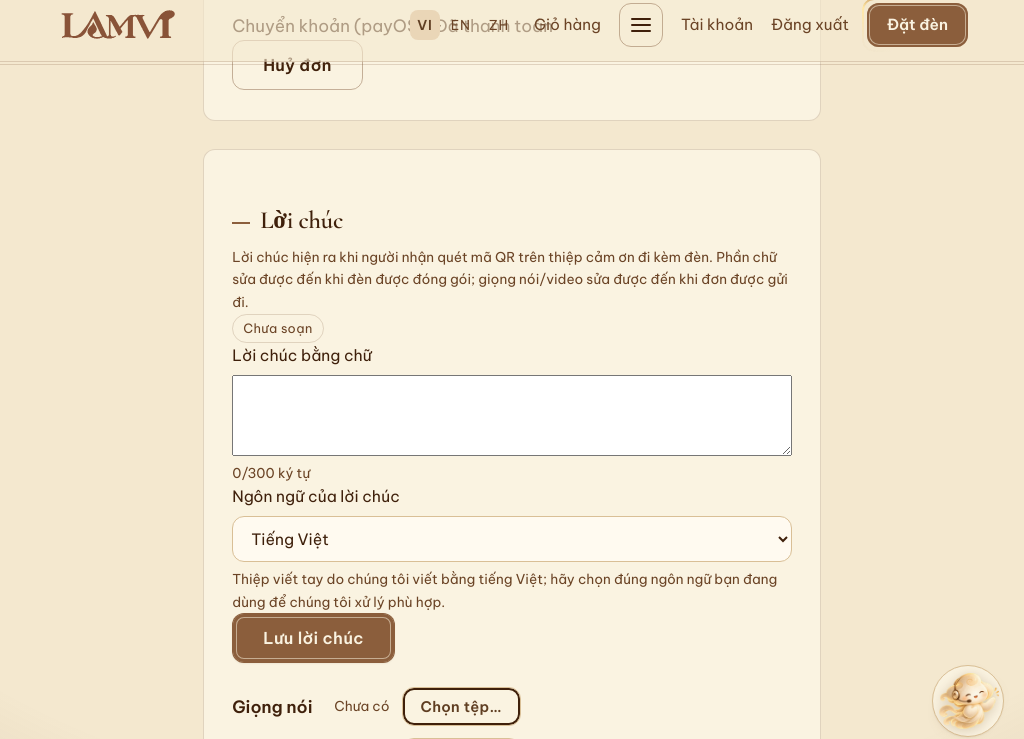
it: Khung soạn lời chúc › đơn có lời chúc: hiện khung, đếm ký tự, lưu bằng PUT
(page scrolled)
Step 1. Type "Chúc mừng" into the text box labelled "Lời chúc bằng chữ" → (512, 416), box [232, 375, 792, 456]
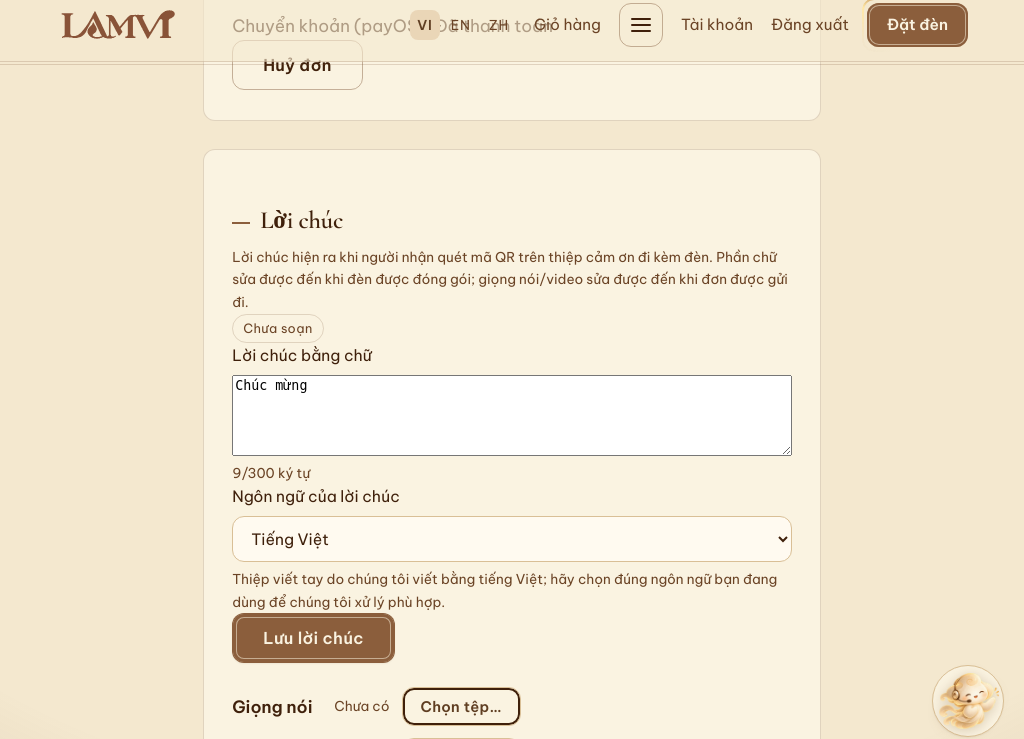
expect the text "9/300 ký tự" is shown: met, box [232, 464, 310, 482]
Step 2. Click the button "Lưu lời chúc" → (314, 638), box [232, 613, 395, 663]
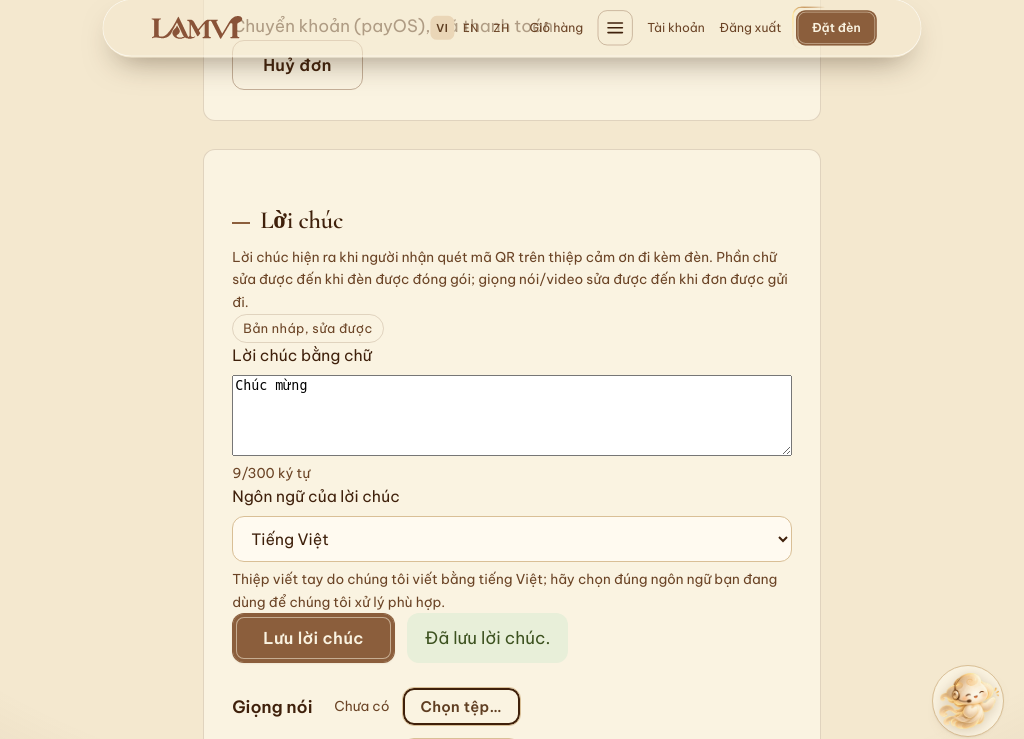
expect the text "Đã lưu lời chúc." is shown: met, box [407, 613, 568, 663]
expect the text "Bản nháp, sửa được" is shown: met, box [232, 314, 384, 343]
